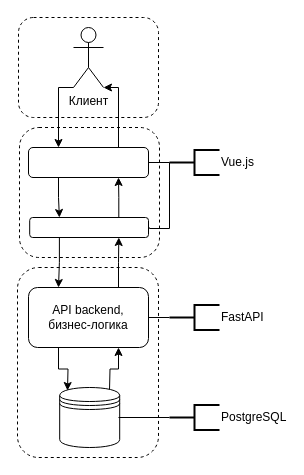
Image size: 304x475. Some labels were removed from this diagram. Here are the shapes that lost their labels. From the top down, the centre of each, then its label:
At point (88, 162): "Web UI".
At point (88, 227): "API Front".
At point (89, 417): "DB".
